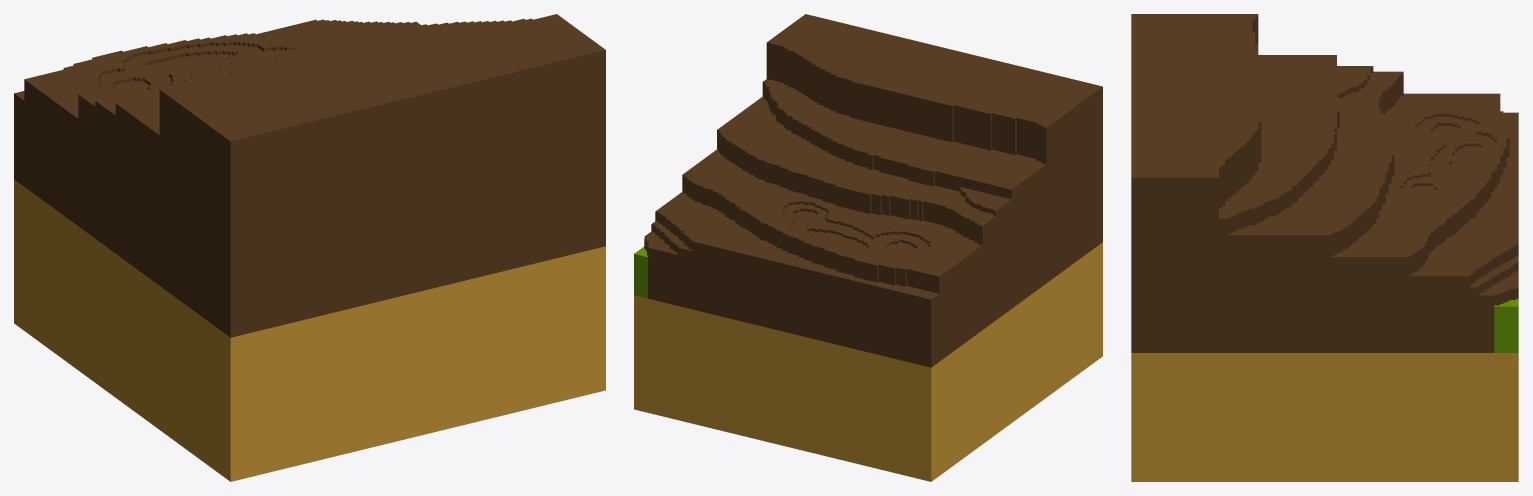
3 views of the same model, side by side, from view 1: azimuth 30°, elevation 25°; view 2: azimuth 150°, elevation 25°; view 3: azimuth 270°, elevation 25° (orthographic). The views are drawn at different scales.
Parts seen in each view (by area): view 1: 13P; view 2: 13P; view 3: 13P.
Boxes of the visible parts, x1=… form: 13P: x1=14, y1=14, x2=605, y2=481; 13P: x1=634, y1=14, x2=1102, y2=481; 13P: x1=1131, y1=14, x2=1518, y2=481.
Bounding box in the file's own units: 12.8 × 11.1 × 12.8.
Materials: 1 (1 with a texture image).
